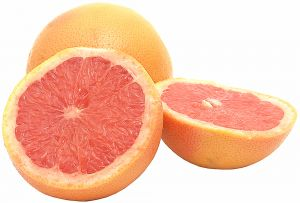grapefruit: (7, 49, 151, 196), (162, 80, 293, 164), (43, 5, 176, 77)
